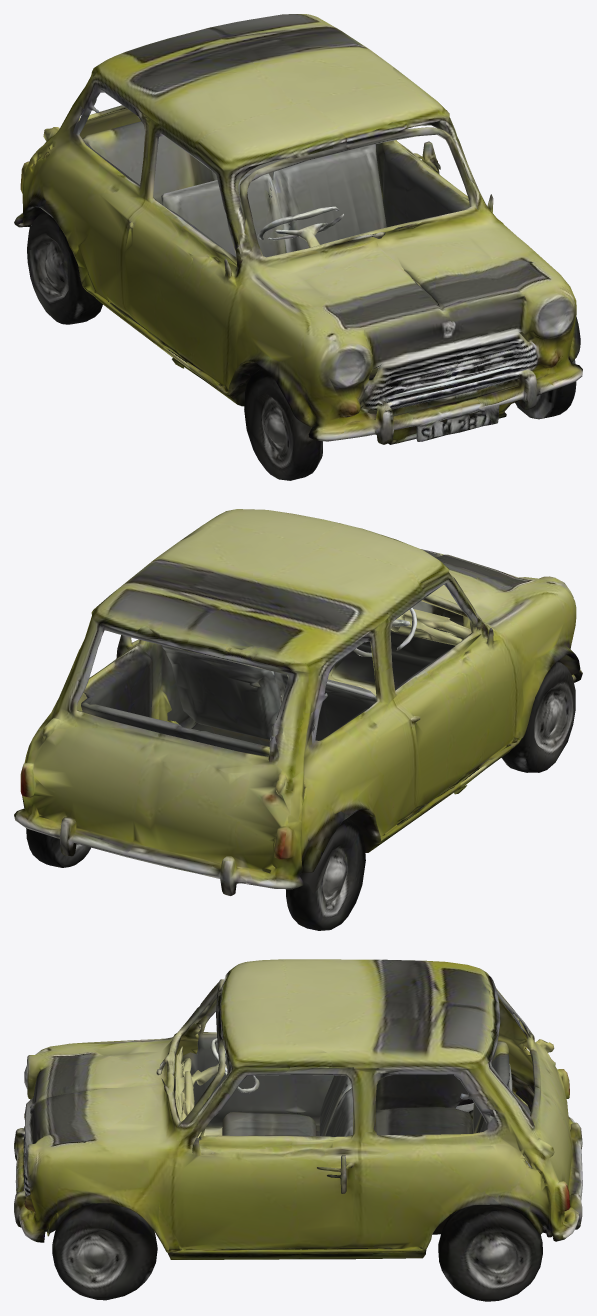
File: car.glb
The picture shows the model from 3 angles, top to bottom: view 1: azimuth 30°, elevation 25°; view 2: azimuth 150°, elevation 25°; view 3: azimuth 270°, elevation 25°; orthographic projection. The views are drawn at different scales.
Visible parts, largest first — view 1: tripo_node_e13122cf-1bb8-4f09-af0e-b273febbb3f3; view 2: tripo_node_e13122cf-1bb8-4f09-af0e-b273febbb3f3; view 3: tripo_node_e13122cf-1bb8-4f09-af0e-b273febbb3f3.
Part boxes in pixels (box(x1,y1,x2,y2)): tripo_node_e13122cf-1bb8-4f09-af0e-b273febbb3f3: box(14, 14, 582, 480); tripo_node_e13122cf-1bb8-4f09-af0e-b273febbb3f3: box(14, 509, 582, 930); tripo_node_e13122cf-1bb8-4f09-af0e-b273febbb3f3: box(14, 959, 582, 1301).
Bounding box in the file's own units: 0.5746 × 0.4712 × 0.9991.
1 material, 1 textured.
